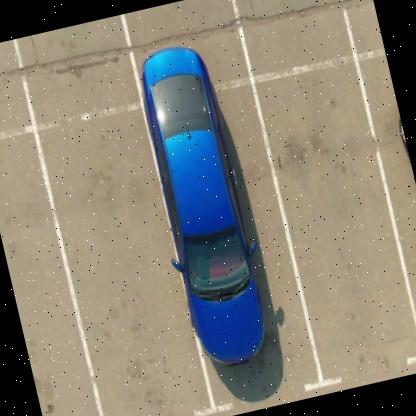Car: (119, 33, 284, 393)
Empty: (253, 61, 416, 377), (41, 112, 197, 416), (0, 136, 97, 416)
